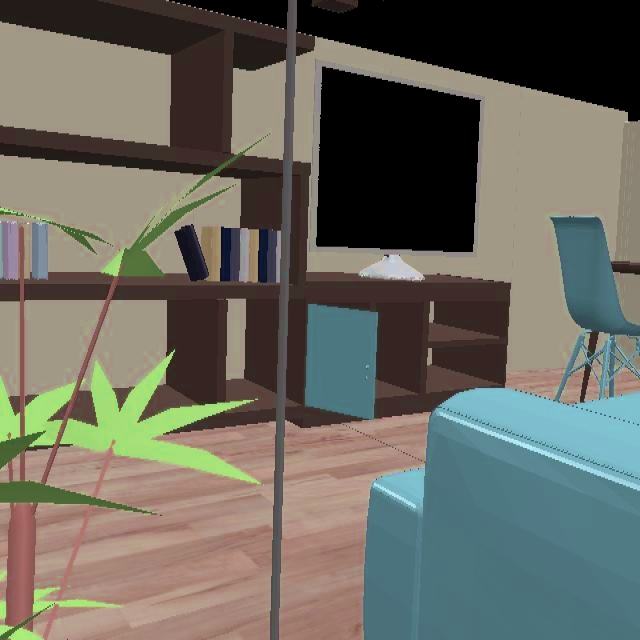book: (175, 225, 277, 283), (0, 221, 48, 281)
bookshelf: (0, 161, 512, 429), (0, 0, 288, 232)
chair: (550, 216, 640, 403)
monitor: (315, 67, 483, 283)
sofa: (364, 388, 640, 640)
table: (613, 255, 640, 280)
